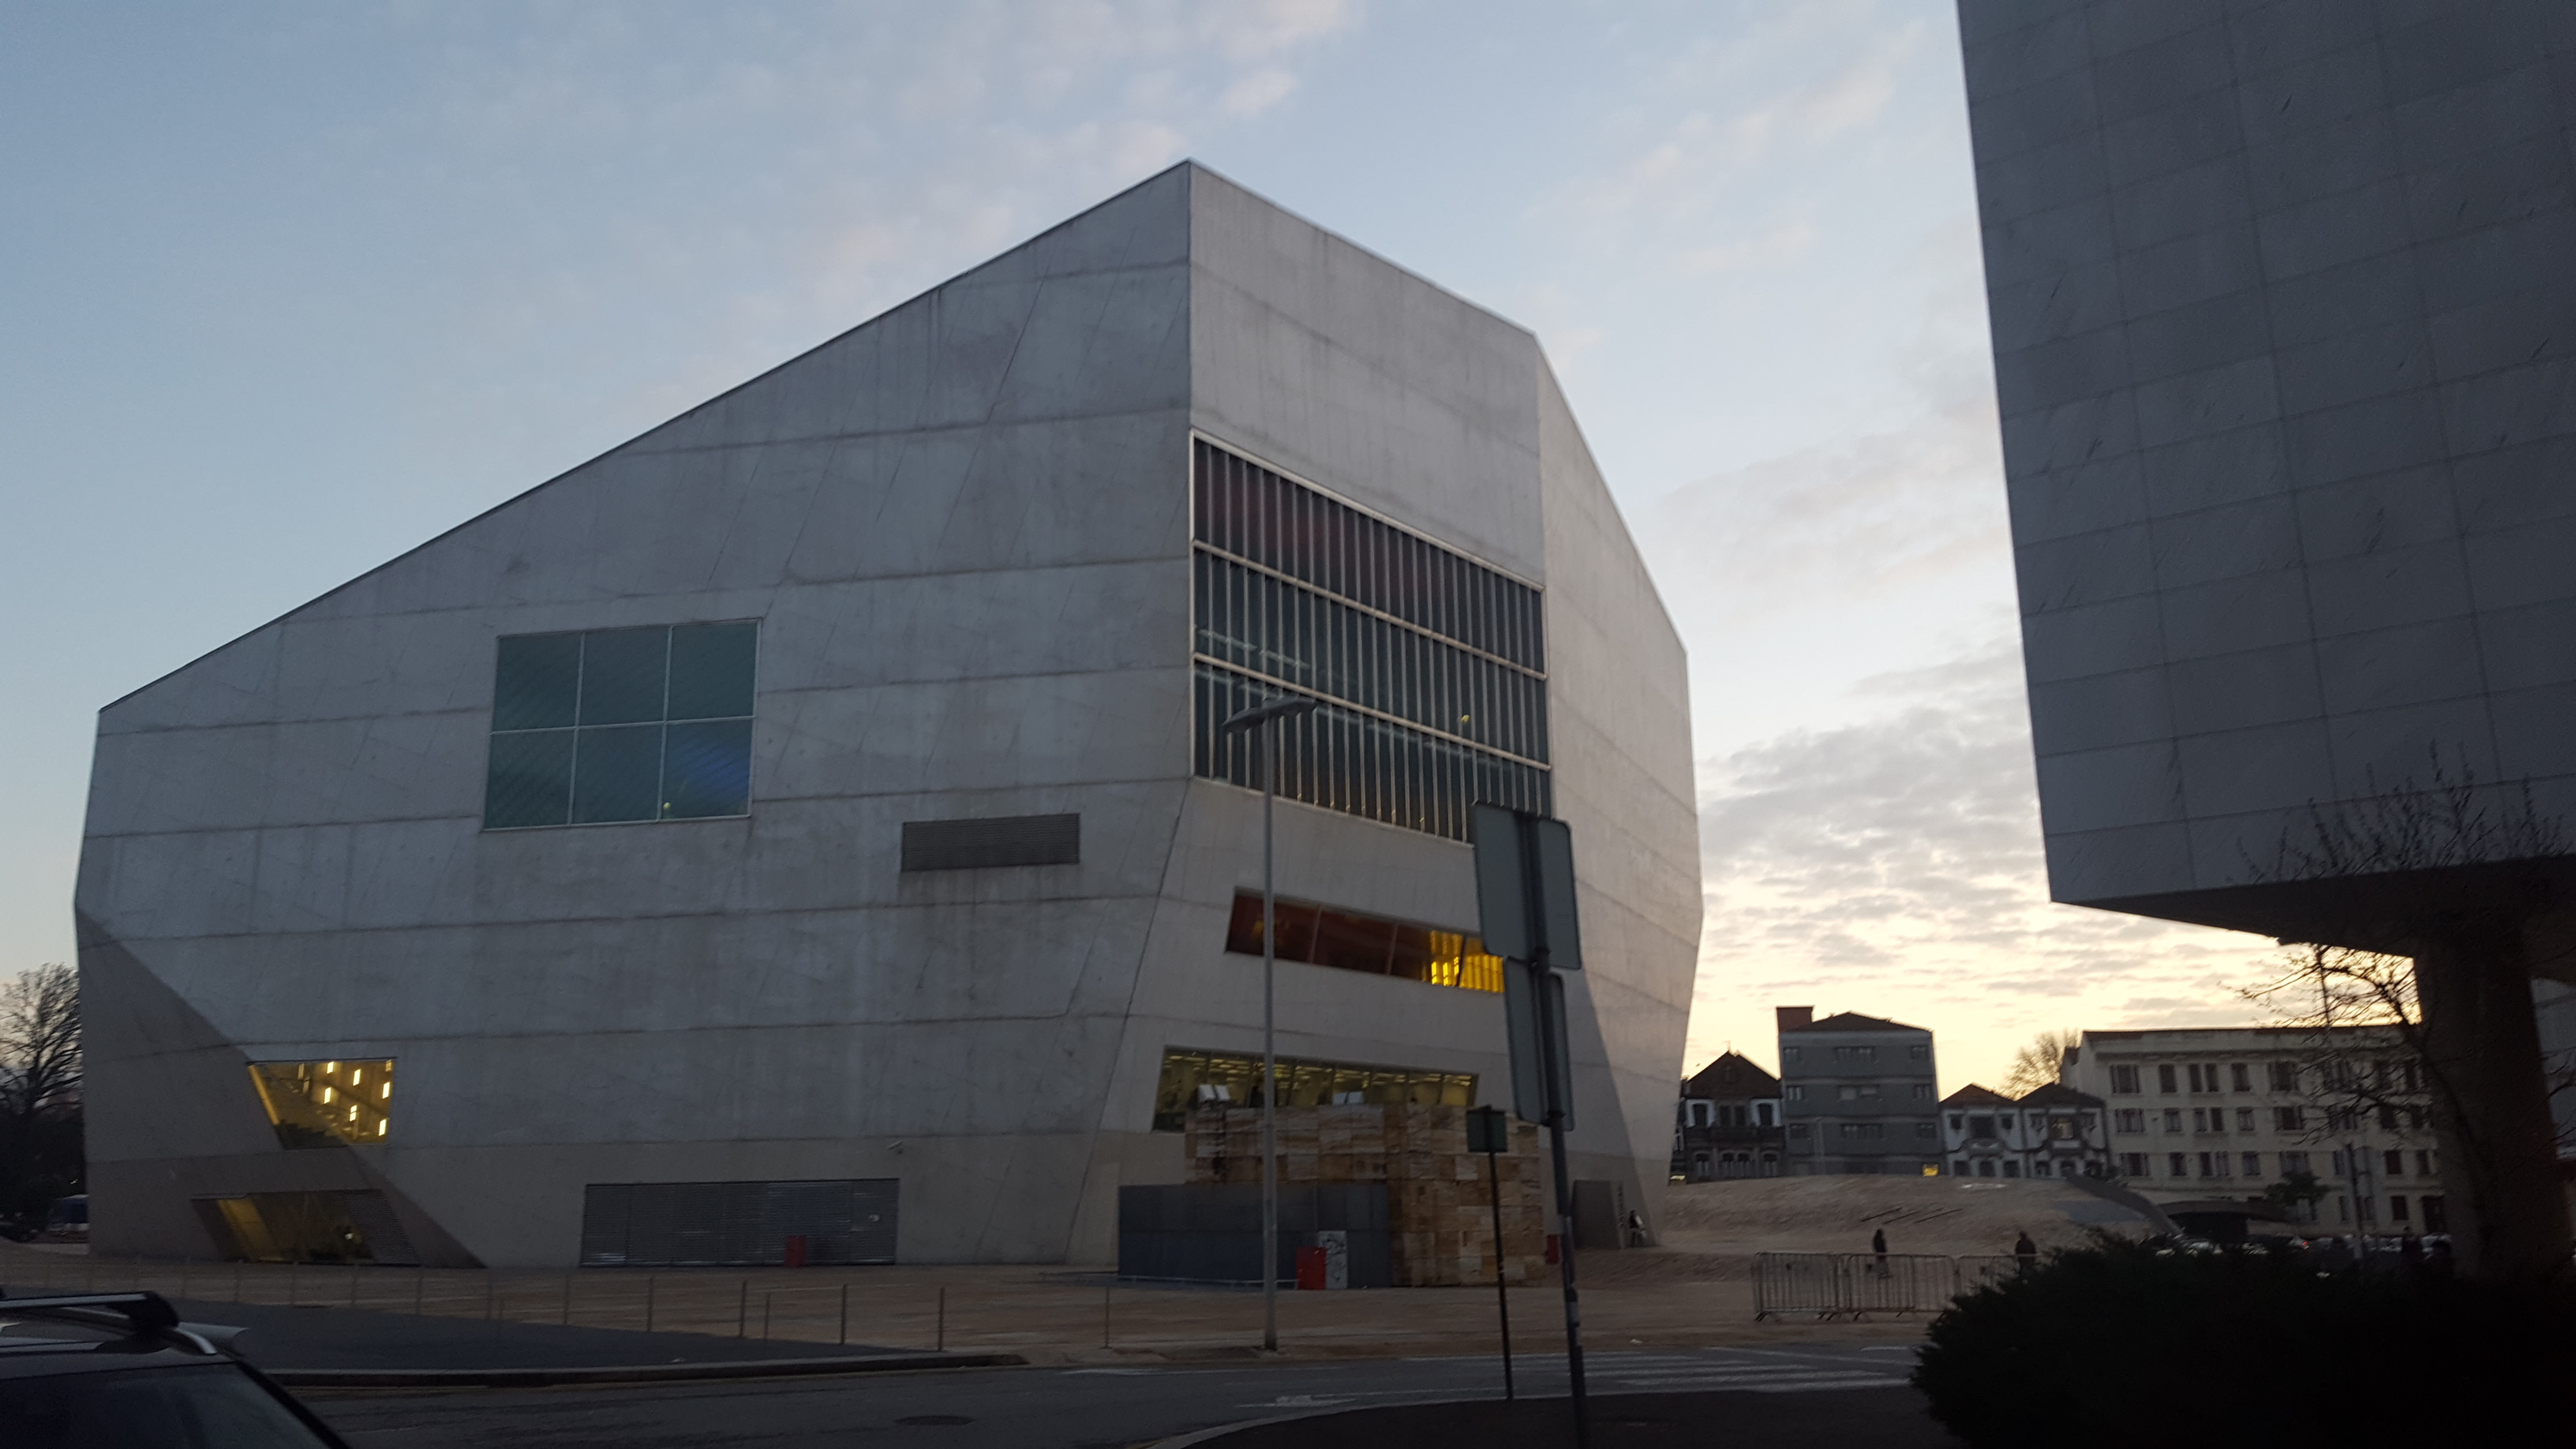musica: (96, 198, 1741, 1247)
